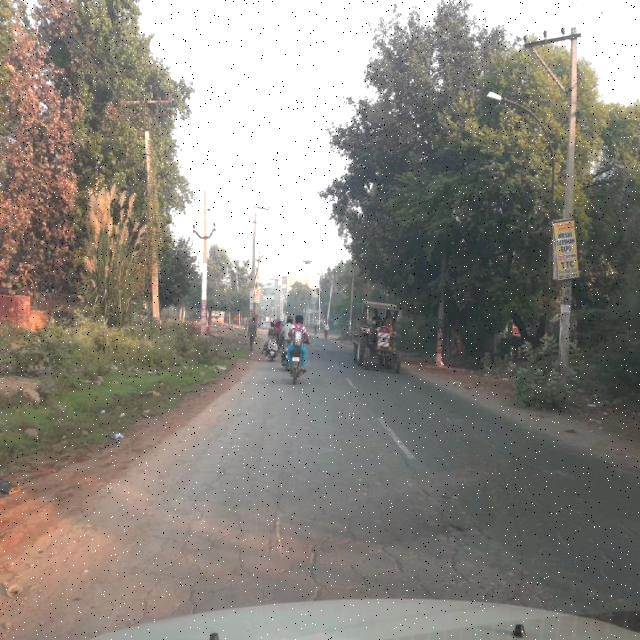D20: (99, 443, 468, 612)
